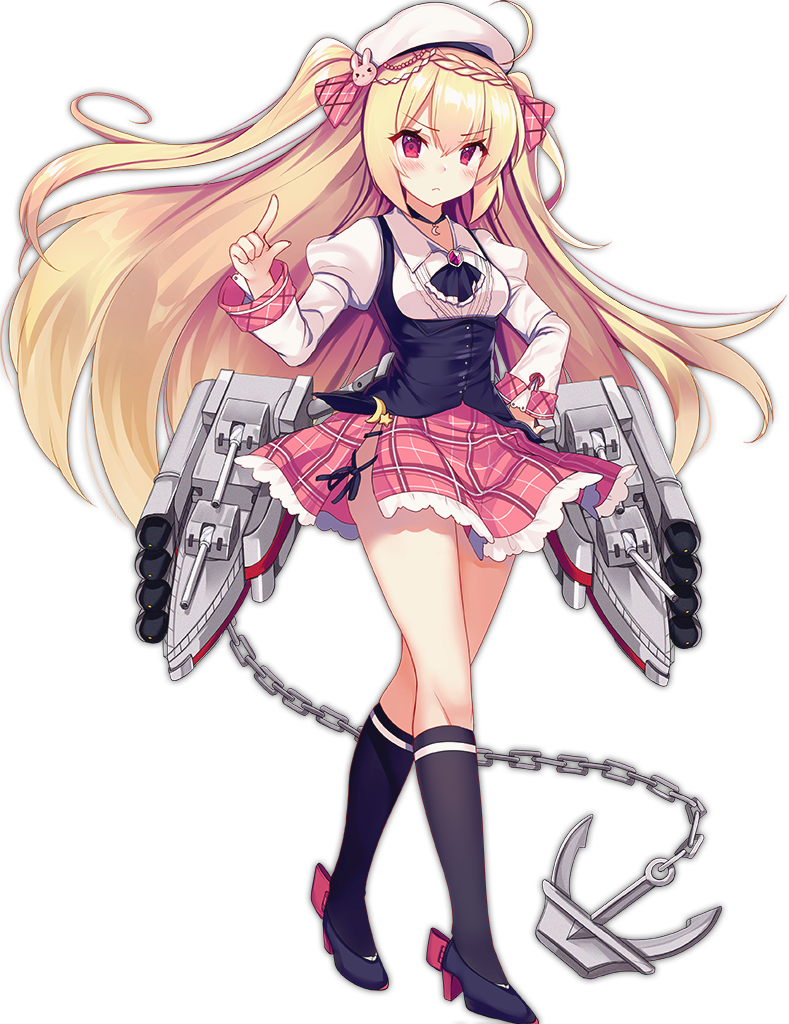person: (113, 22, 745, 837)
